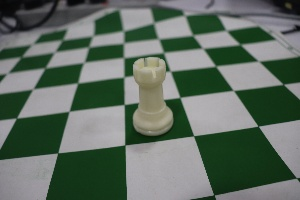white_rook: (122, 38, 182, 143)
